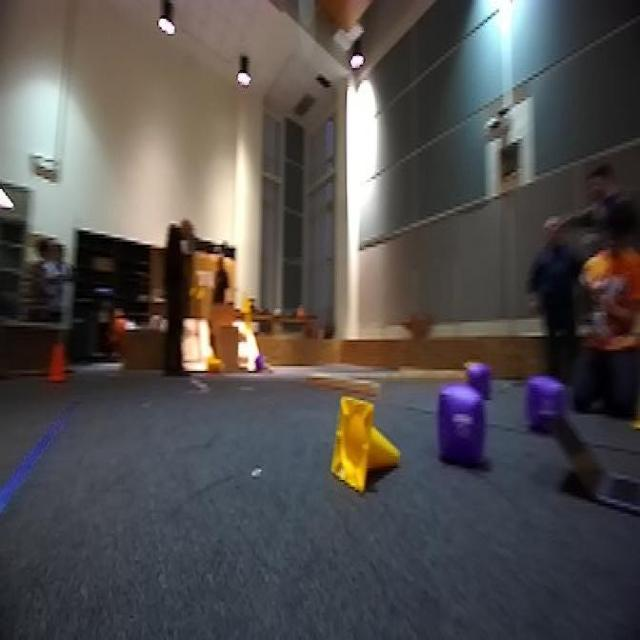frc_cone: (331, 395, 403, 494), (205, 352, 223, 377)
frc_cube: (436, 385, 486, 468), (524, 371, 564, 434), (465, 356, 492, 393), (252, 356, 268, 373)
